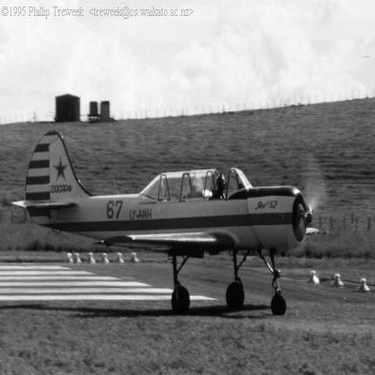airplane: (7, 104, 354, 327)
